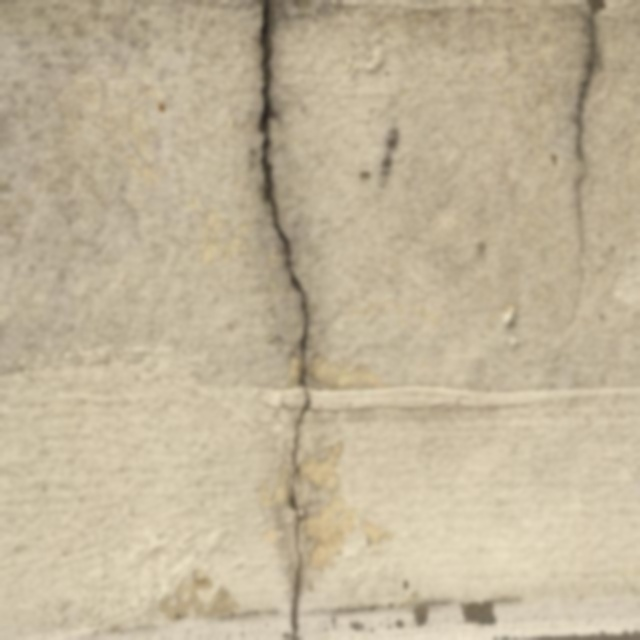SurfaceCrack: (217, 0, 335, 391), (543, 0, 638, 389)
